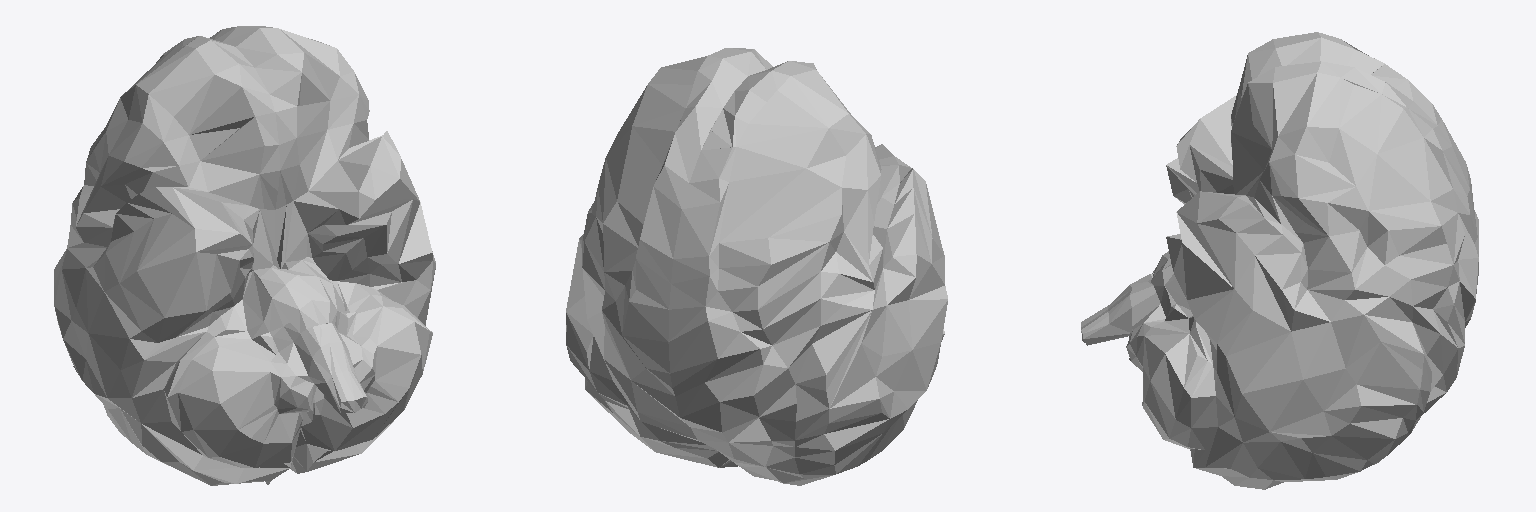
File: brain.obj
3 renders of one model, left to right at view 1: azimuth 30°, elevation 25°; view 2: azimuth 150°, elevation 25°; view 3: azimuth 270°, elevation 25°, orthographic.
Size of the model in its own units: 5.21 by 6.59 by 5.76.